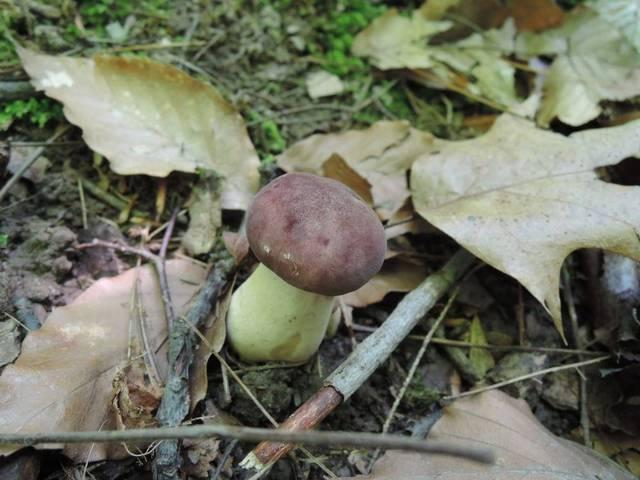poisonous_mushroom: (224, 170, 387, 366)
